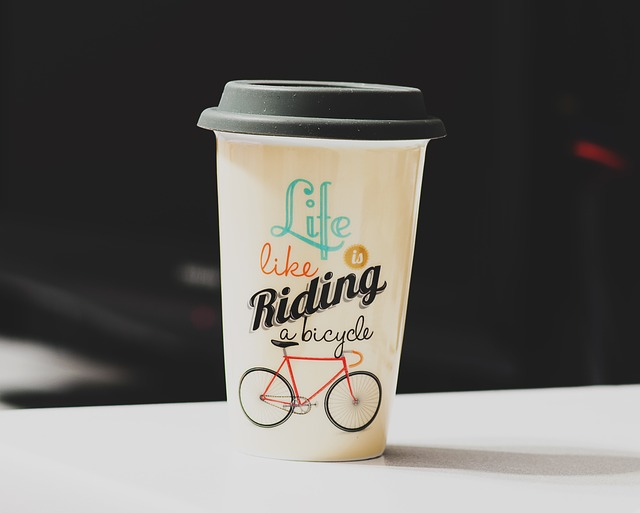cup: (182, 66, 469, 475)
